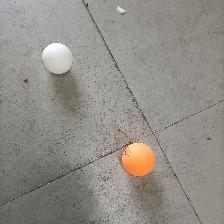WhiteBall: (39, 41, 73, 75)
YellowBall: (120, 140, 156, 175)
